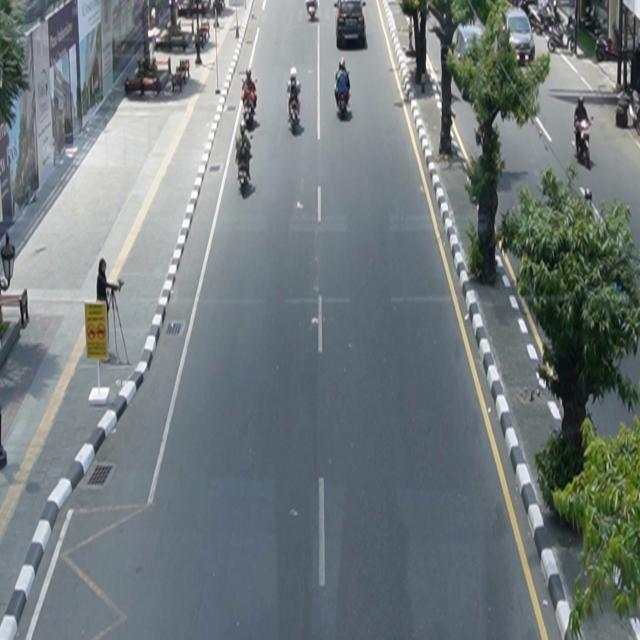car: (335, 1, 367, 50)
